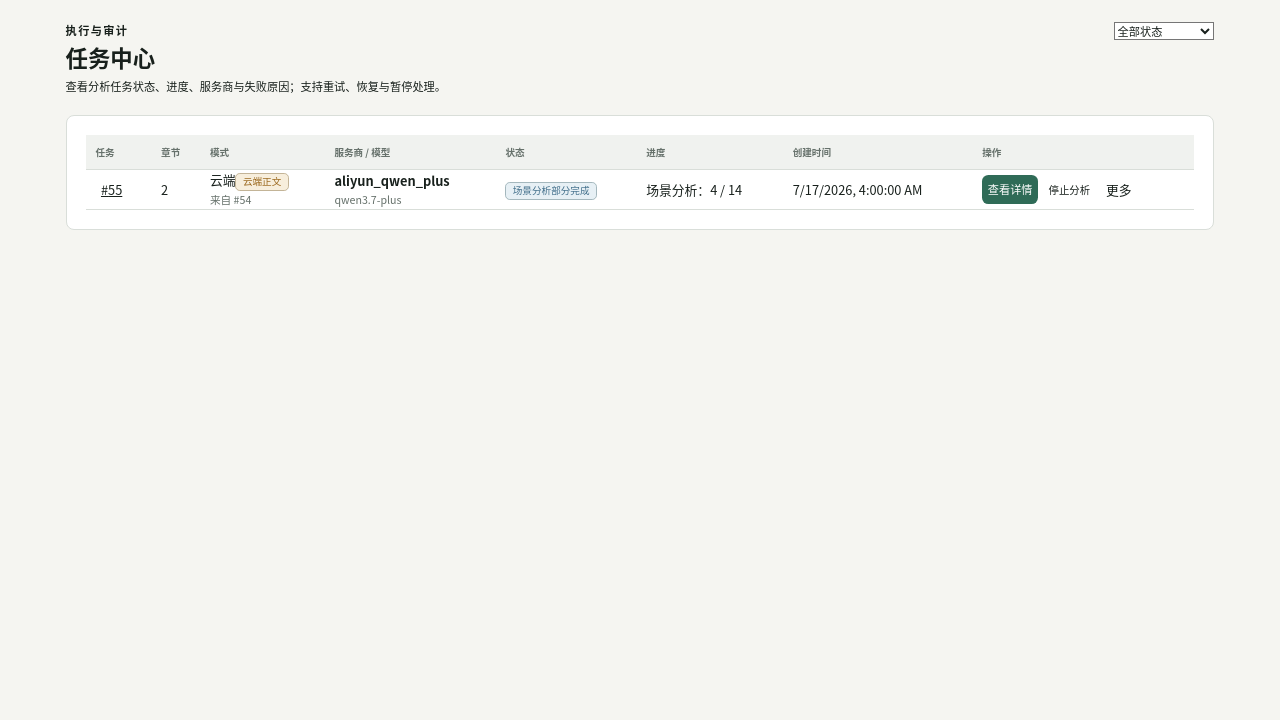
it: TasksPage Scene Analysis 恢复 › 列表显示真实Scene进度
The width and height of the screenshot is (1280, 720).
Check: the text with test id "run-55-scene-progress" reads "场景分析：4 / 14", box [646,180,742,199]
Click the button "查看详情". click: click(1010, 190)
box: [982,175,1038,204]
(page scrolled)
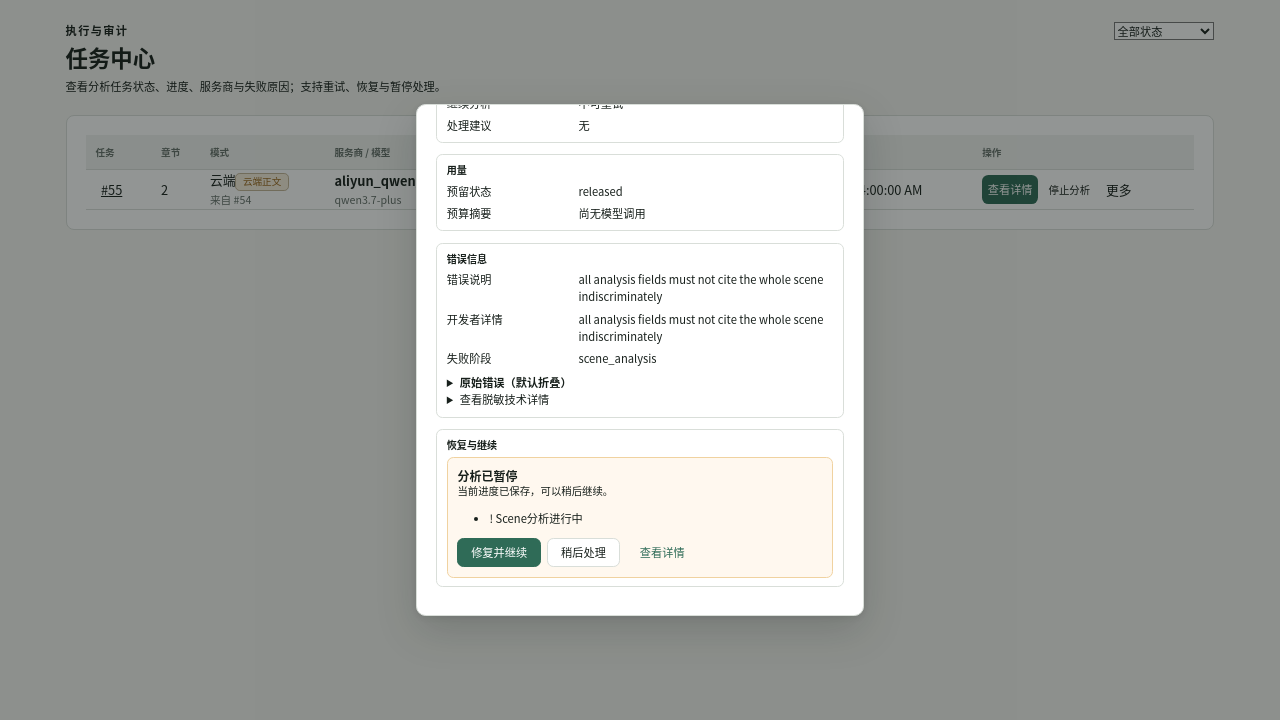
Check: the element with test id "task-unified-recovery" is shown, box [436,429,844,587]
Check: the button with test id "unified-recovery-fix-continue" is shown, box [457,538,541,567]
